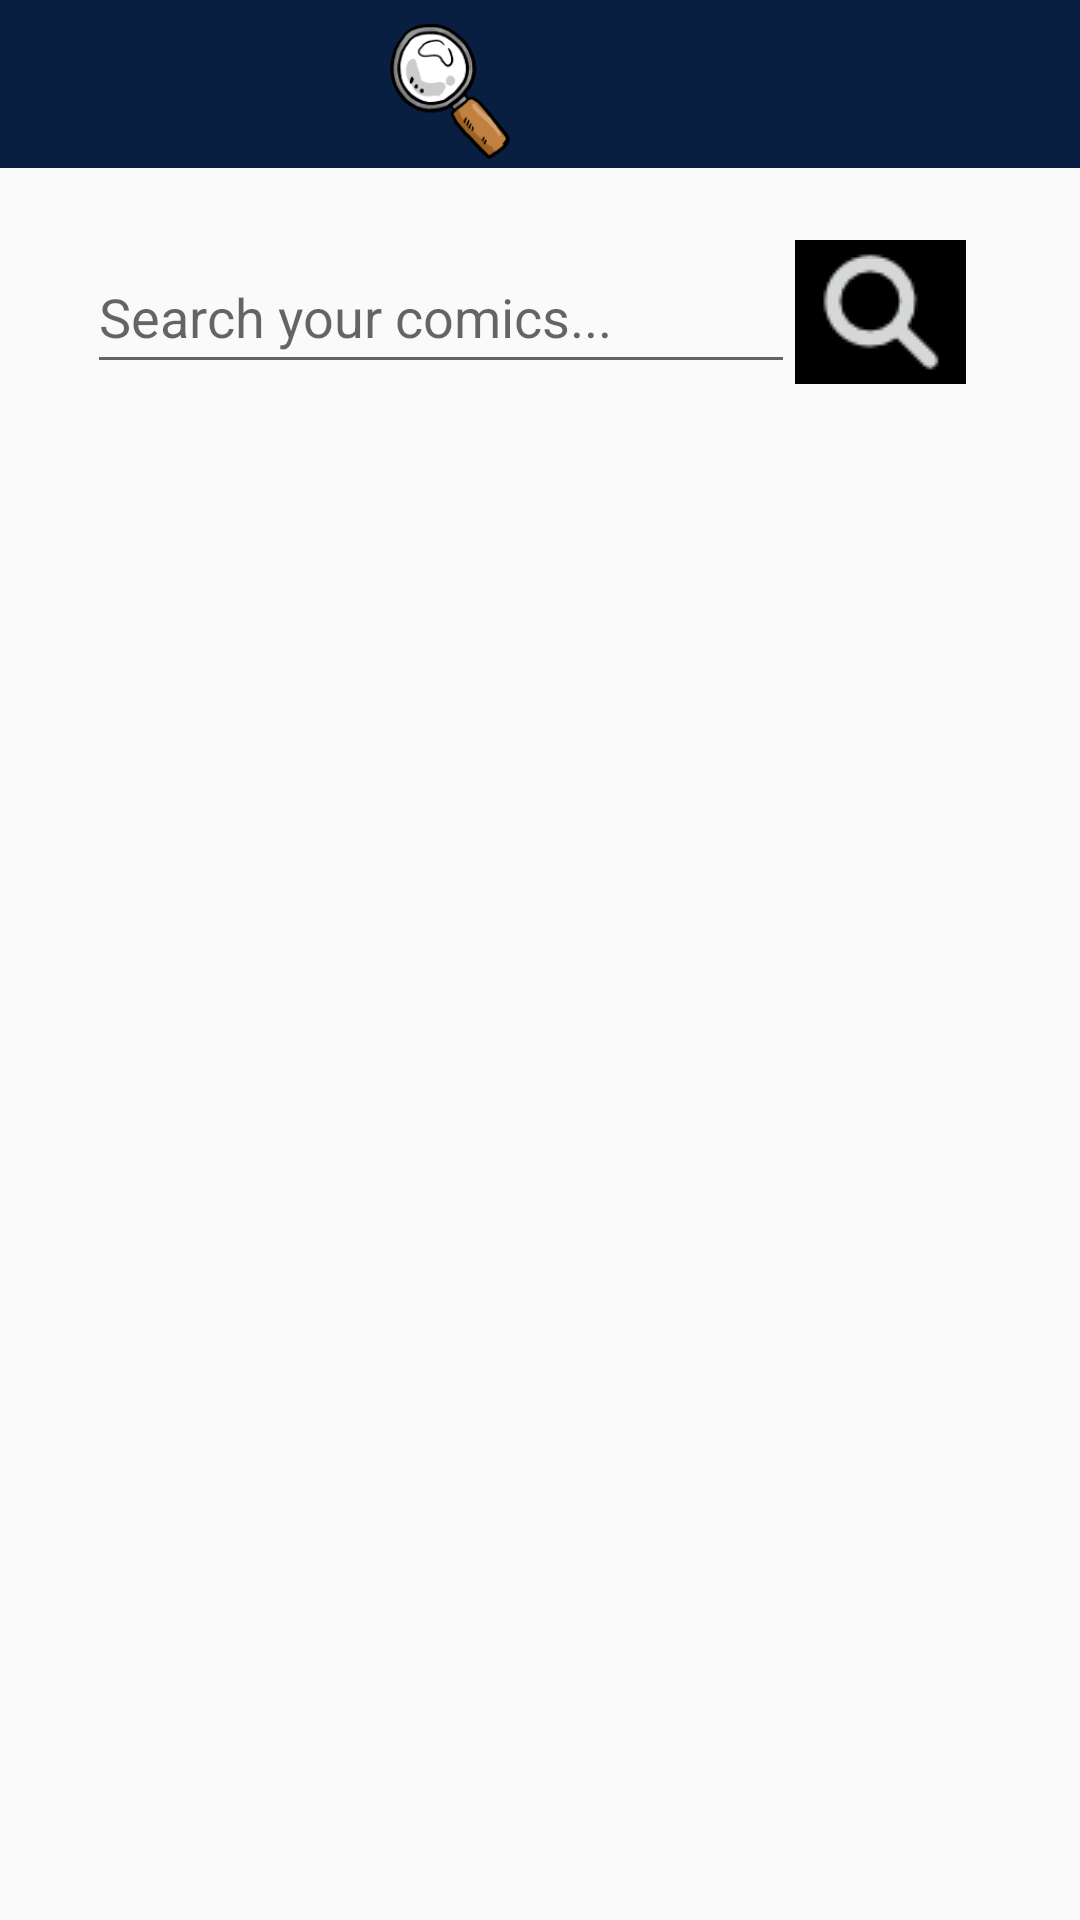

Named icons in this screenshot (1080*1920) and their bounding boxes, (x1, y1, x2, y2):
searchbtn: (795, 240, 966, 384)
searchicon: (390, 24, 510, 159)
